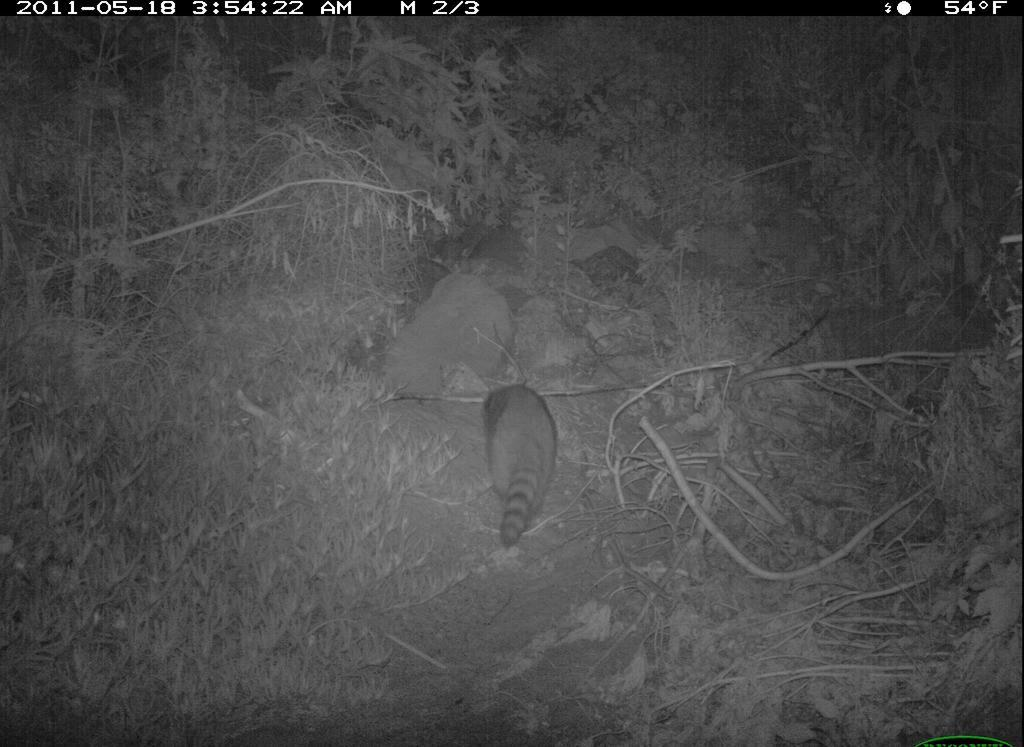raccoon: (477, 370, 574, 552)
